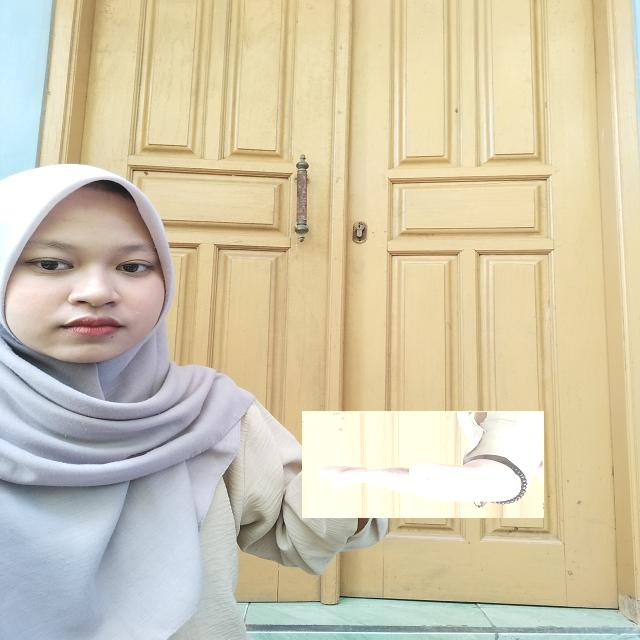adik: (302, 411, 544, 518)
